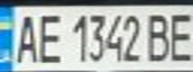1: (63, 10, 90, 63)
2: (121, 10, 145, 63)
3: (87, 10, 106, 62)
4: (103, 10, 127, 63)
A: (9, 9, 42, 64)
B: (145, 9, 175, 63)
E: (33, 9, 66, 64), (166, 8, 193, 62)
